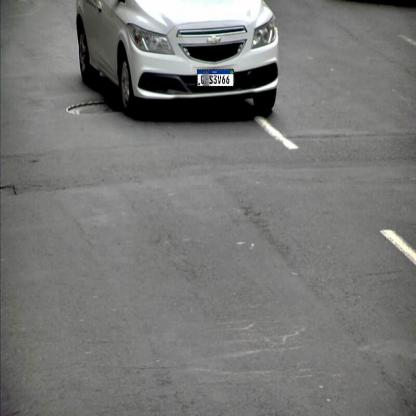PlacaM: (197, 69, 234, 87)
